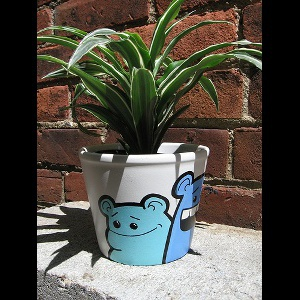flowerpot: (78, 138, 209, 266)
